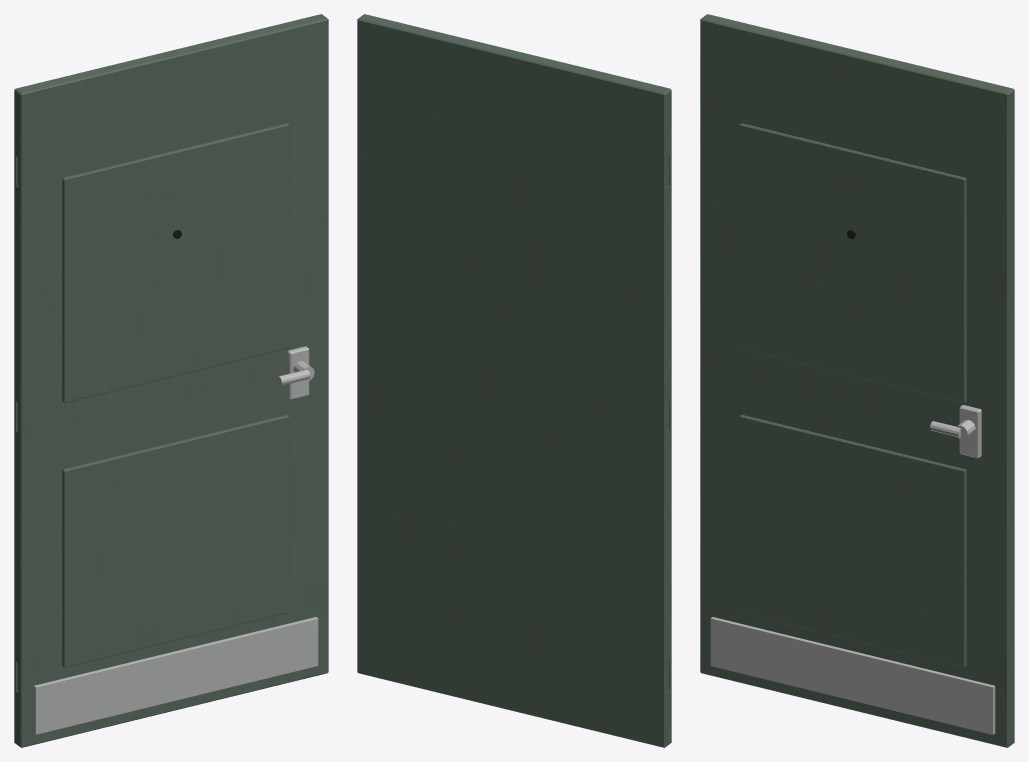
File: room101_leaf_option1.glb
3 renders of one model, left to right at view 1: azimuth 30°, elevation 25°; view 2: azimuth 150°, elevation 25°; view 3: azimuth 330°, elevation 25°, orthographic.
Parts seen in each view (by area): view 1: R101_LEAF_00, R101_LEAF_02, R101_LEAF_01, R101_LEAF_09, R101_LEAF_03; view 2: R101_LEAF_00; view 3: R101_LEAF_00, R101_LEAF_02, R101_LEAF_01, R101_LEAF_09, R101_LEAF_03.
Part boxes in pixels (x1,y1,x2,y2): R101_LEAF_00: (14,14,328,747); R101_LEAF_02: (62,123,289,402); R101_LEAF_01: (62,415,289,667); R101_LEAF_09: (33,617,318,734); R101_LEAF_03: (287,346,309,399); R101_LEAF_00: (357,14,671,747); R101_LEAF_00: (700,14,1014,747); R101_LEAF_02: (739,123,966,402); R101_LEAF_01: (739,415,966,667); R101_LEAF_09: (710,617,995,734); R101_LEAF_03: (959,405,981,458).
Bounding box in the file's own units: 1.08 × 2.19 × 0.1375.
3 materials, 1 textured.
